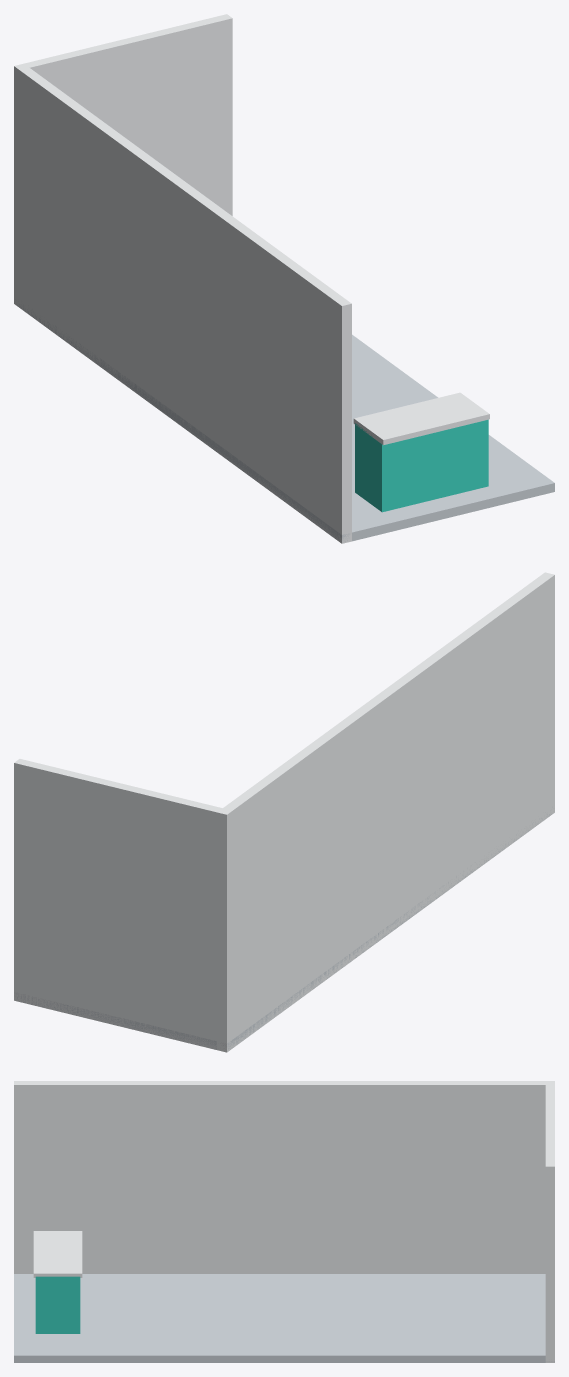
3 views of the same model, one above another, from view 1: azimuth 30°, elevation 25°; view 2: azimuth 150°, elevation 25°; view 3: azimuth 270°, elevation 25° (orthographic). The views are drawn at different scales.
Visible parts, largest first — view 1: Exhibition Booth Concept; view 2: Exhibition Booth Concept; view 3: Exhibition Booth Concept.
Boxes of the visible parts, x1,y1,x2,y2 form: Exhibition Booth Concept: [14, 14, 554, 543]; Exhibition Booth Concept: [14, 572, 554, 1052]; Exhibition Booth Concept: [14, 1081, 554, 1362].
Bounding box in the file's own units: 3 × 3.2 × 8.
